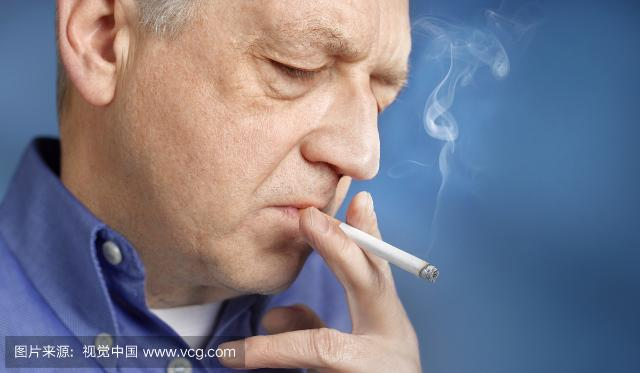Cigarette: (301, 210, 444, 282)
